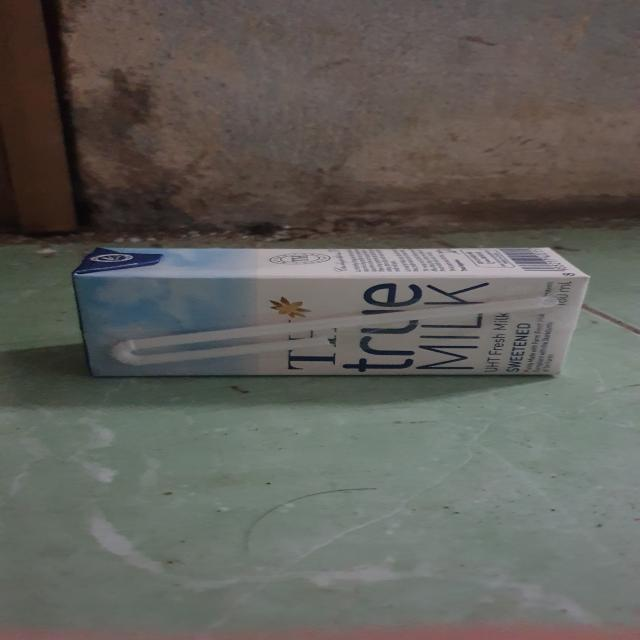TH: (72, 241, 591, 384)
